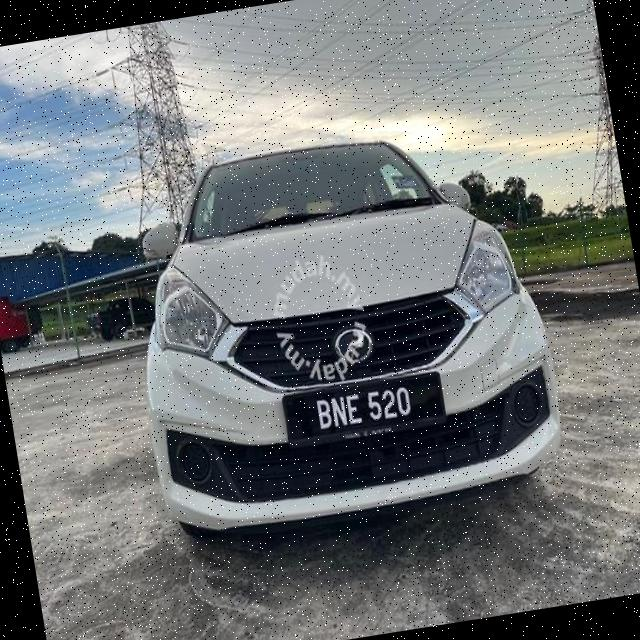License_Plate: (271, 363, 465, 460)
car: (94, 85, 593, 568)
